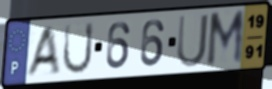6: (140, 19, 166, 70), (106, 21, 132, 72)
A: (23, 24, 62, 80)
M: (204, 7, 247, 69)
U: (175, 12, 210, 70), (61, 20, 96, 77)
